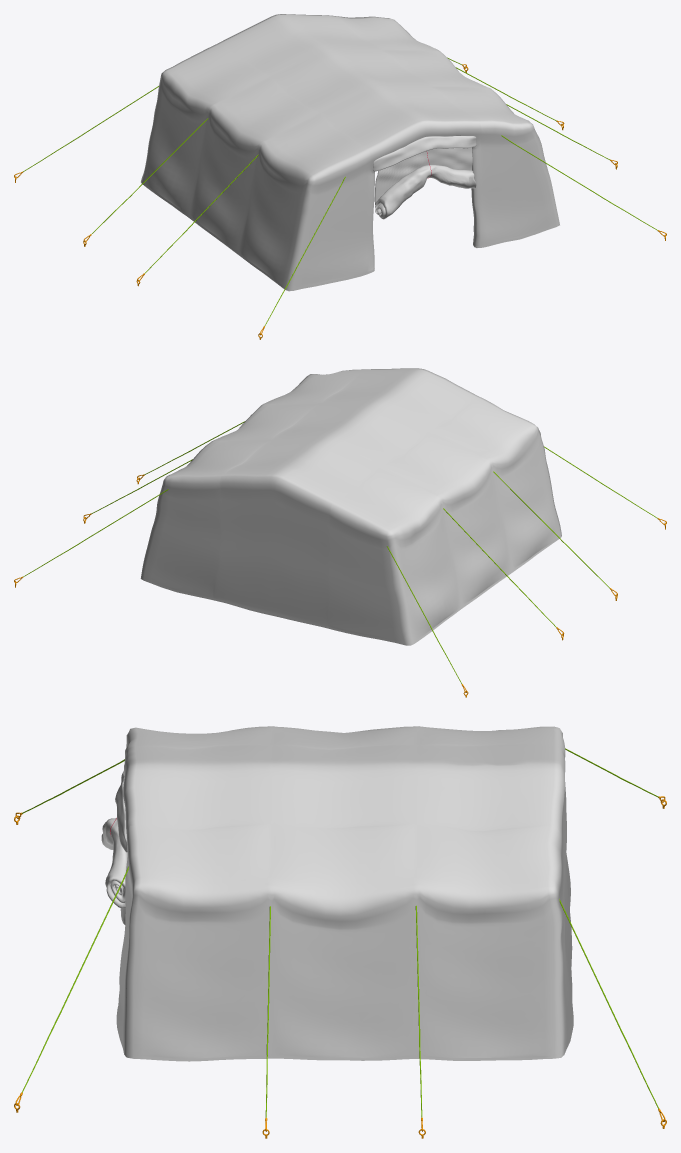
Rendered from SM_Tent_fixed.fbx.
3 views of the same model, one above another, from view 1: azimuth 30°, elevation 25°; view 2: azimuth 150°, elevation 25°; view 3: azimuth 270°, elevation 25° (orthographic). The views are drawn at different scales.
Visible parts, largest first — view 1: SM_FullTent; view 2: SM_FullTent; view 3: SM_FullTent.
Part boxes in pixels (x1,y1,x2,y2): SM_FullTent: (14,14,666,339); SM_FullTent: (14,368,666,697); SM_FullTent: (14,726,666,1138).
Size of the model in its own units: 1170 by 326 by 945.
